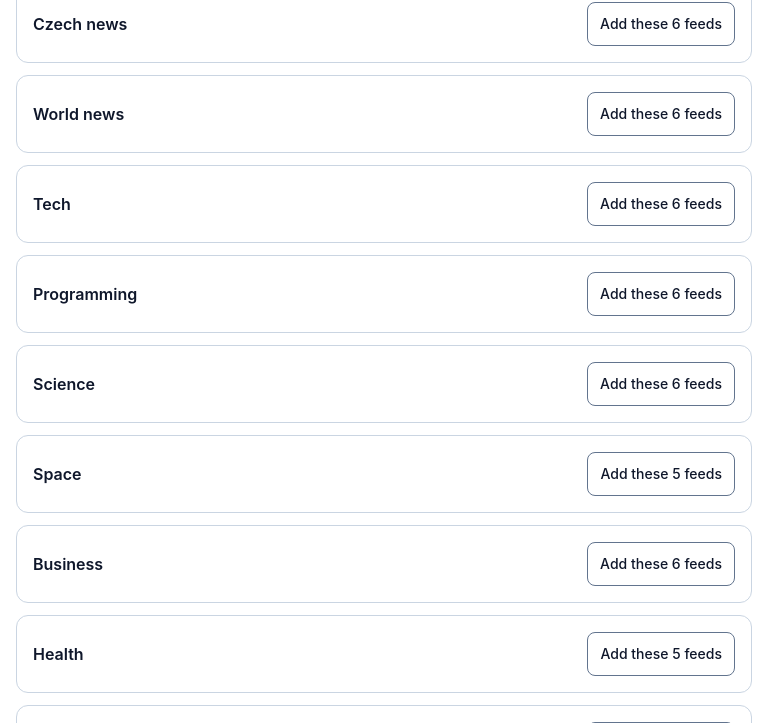
Test: starter bundles (spec 09 §4 step 2) › reports each feed as added, already there or failed, and goes on after a failure
The image size is (769, 723).
(page scrolled)
Click the 5th button "Add these 6 feeds" at (661, 384), box 587,362 -> 735,406
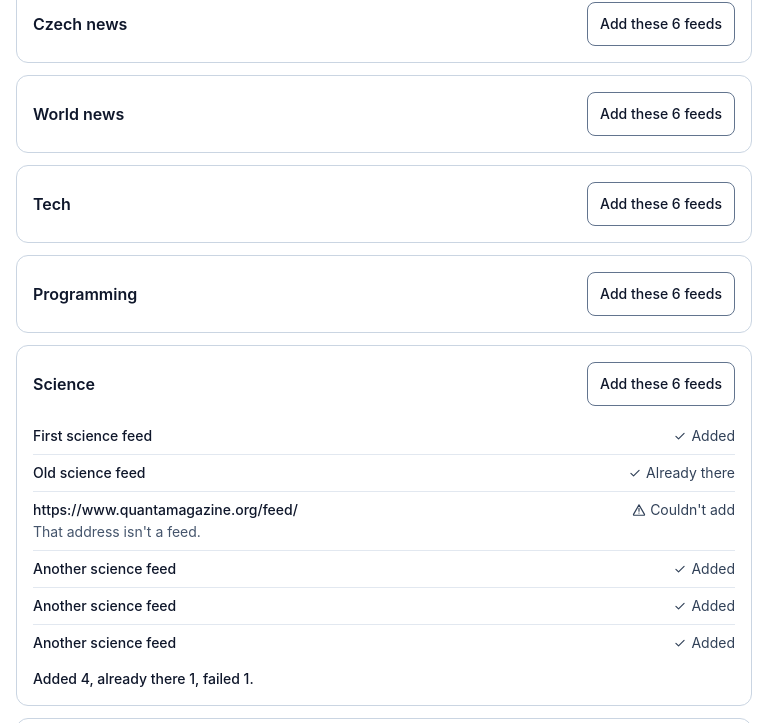
Expected: the list item "First science feed Added" is shown, 33,418 -> 735,455
Expected: the list item "Old science feed Already there" is shown, 33,455 -> 735,492
Expected: the list item that starts with "https://www.quantamagazine.org/feed/" is shown, 33,501 -> 298,518
